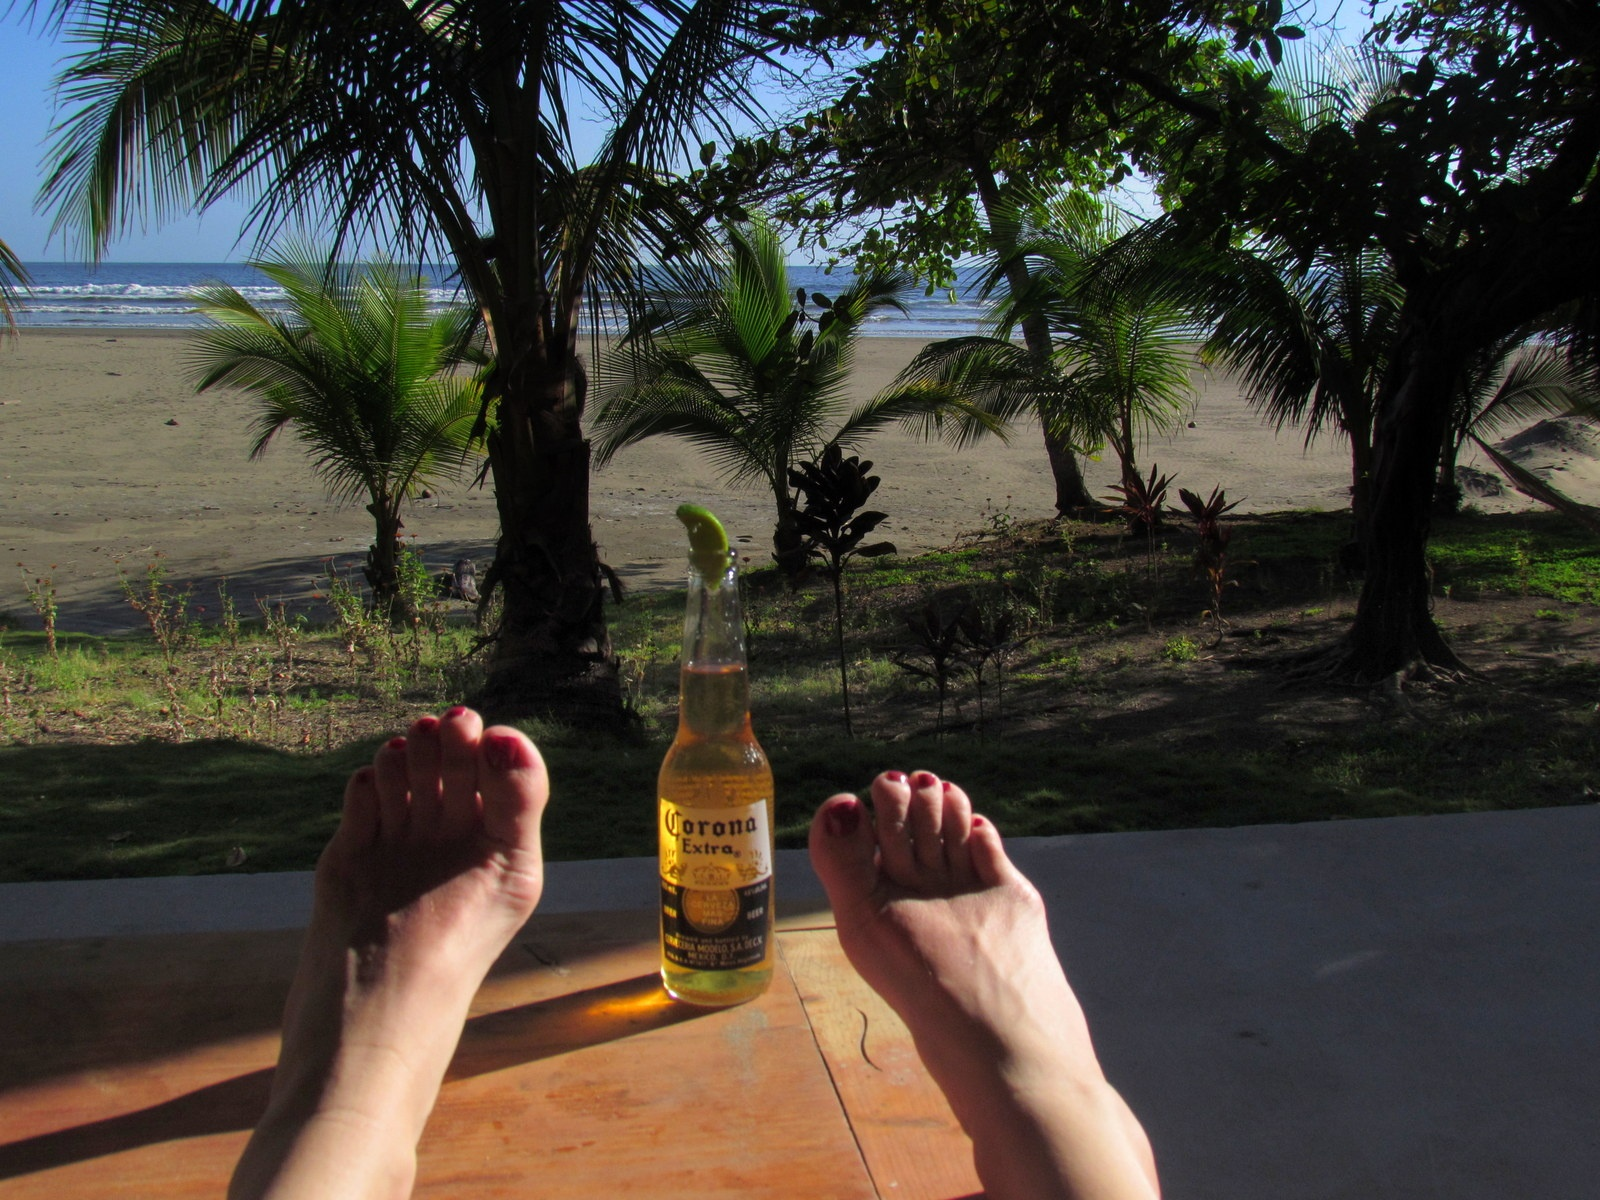beerBottle: (656, 557, 780, 1012)
